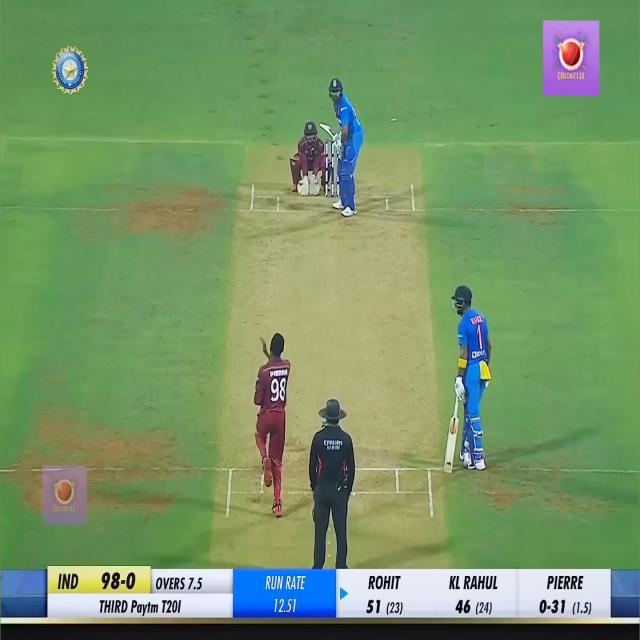fully_visible: (130, 594, 160, 614)
